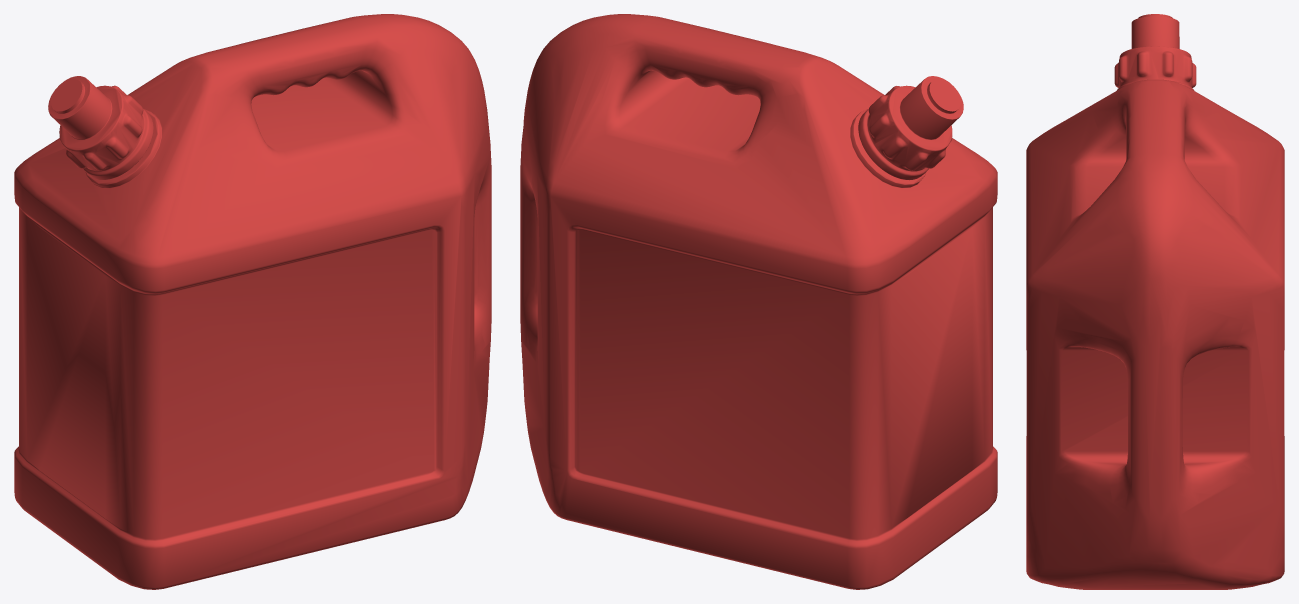
File: jerry_can.fbx
3 renders of one model, left to right at view 1: azimuth 30°, elevation 25°; view 2: azimuth 150°, elevation 25°; view 3: azimuth 270°, elevation 25°, orthographic. The views are drawn at different scales.
Visible parts, largest first — view 1: 15222_Gas_Can; view 2: 15222_Gas_Can; view 3: 15222_Gas_Can.
Part boxes in pixels (bbox=[...]): 15222_Gas_Can: bbox=[14, 14, 491, 589]; 15222_Gas_Can: bbox=[520, 14, 997, 589]; 15222_Gas_Can: bbox=[1026, 14, 1284, 589].
Bounding box in the file's own units: 351 × 362 × 197.
